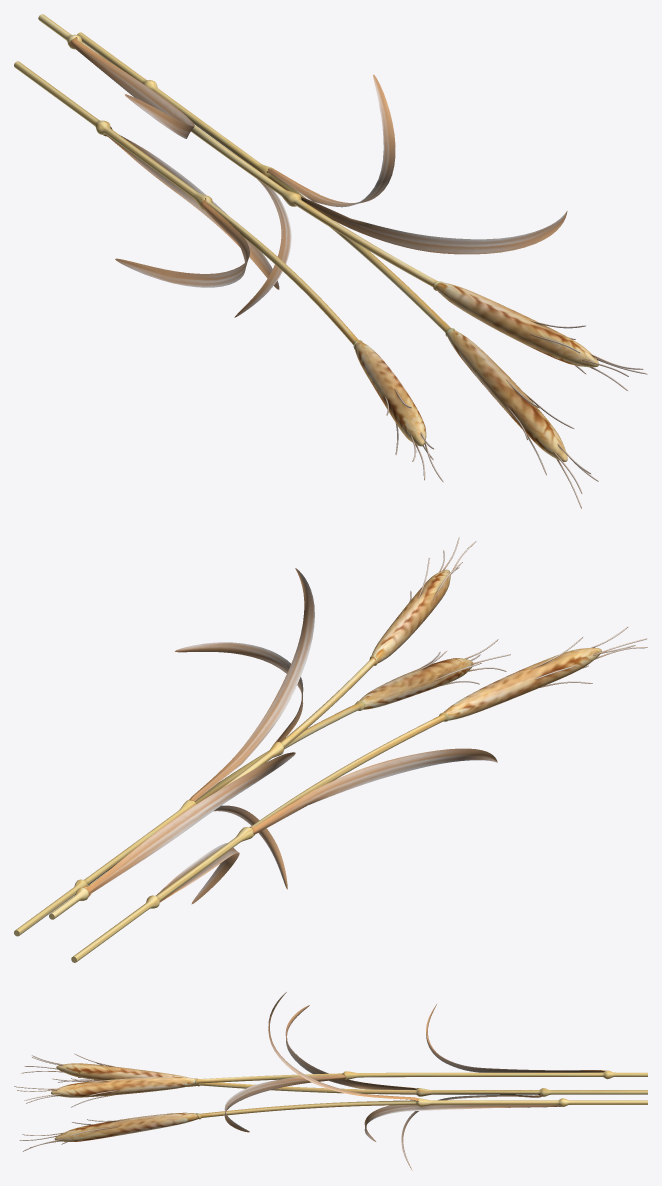
File: wheat1.fbx
3 views of the same model, one above another, from view 1: azimuth 30°, elevation 25°; view 2: azimuth 150°, elevation 25°; view 3: azimuth 270°, elevation 25° (orthographic). The views are drawn at different scales.
Parts seen in each view (by area): view 1: polySurface97, polySurface77; view 2: polySurface97, polySurface77; view 3: polySurface97, polySurface77.
Part boxes in pixels (x1,y1,x2,y2): polySurface97: (14,14,567,317); polySurface77: (296,230,647,508); polySurface97: (14,568,497,962); polySurface77: (287,537,647,767); polySurface97: (224,992,647,1170); polySurface77: (14,1053,295,1151).
Size of the model in its own units: 29.8 by 20.8 by 67.39.
1 material, 1 textured.
